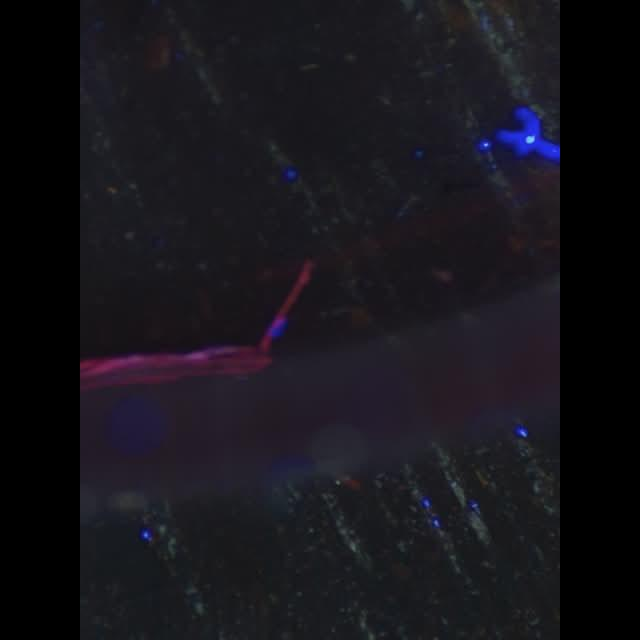Fibre: (260, 255, 314, 351)
